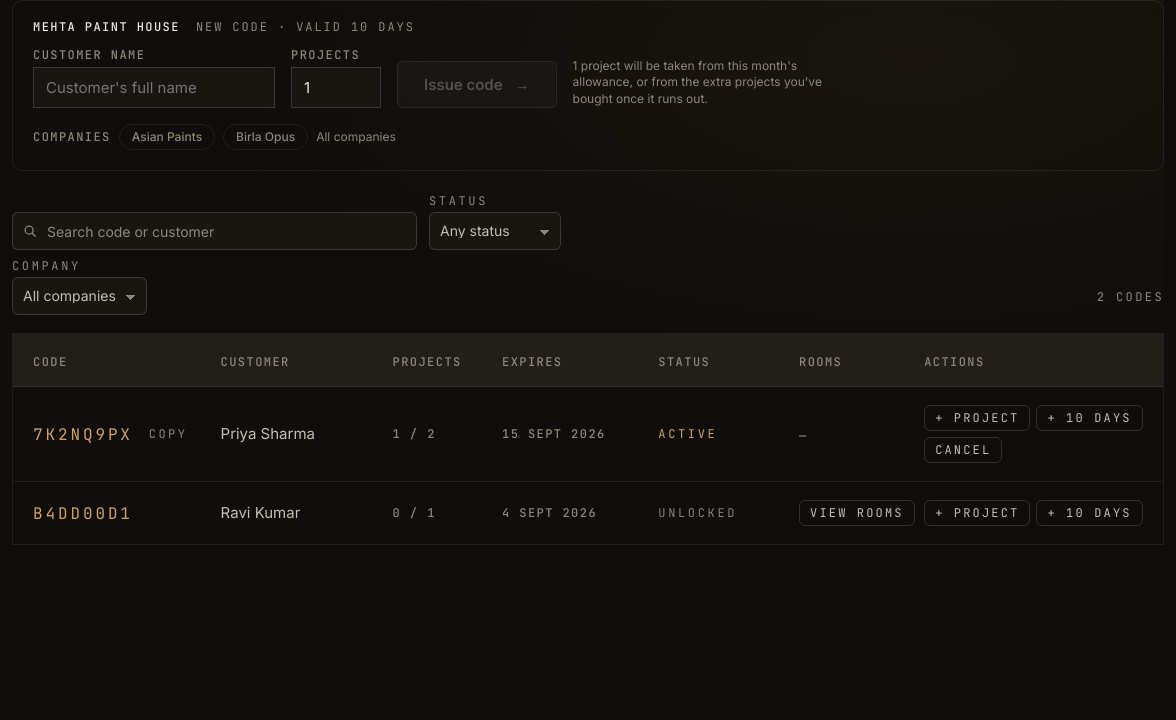
Test: AccessCodes — cancelling an unredeemed code › surfaces a refusal from the server instead of pretending the code was cancelled
Click the button "Cancel": (963, 450) [924, 437, 1002, 463]
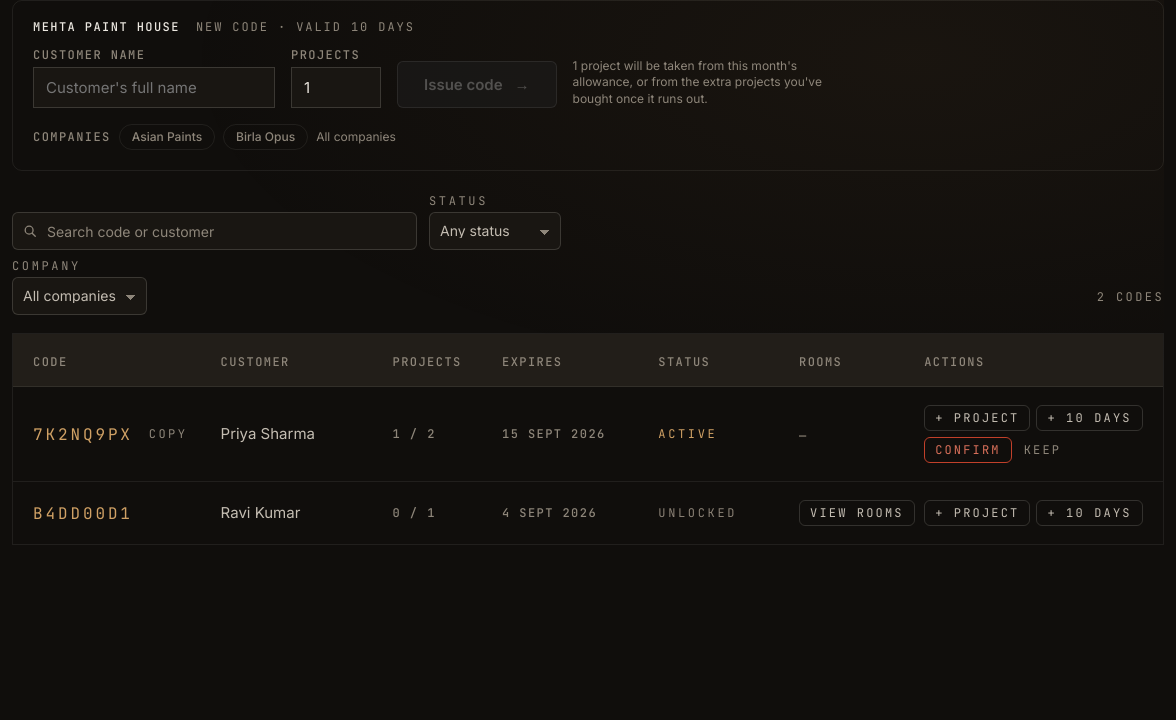
Click the button "Confirm": (968, 450) [924, 437, 1012, 463]
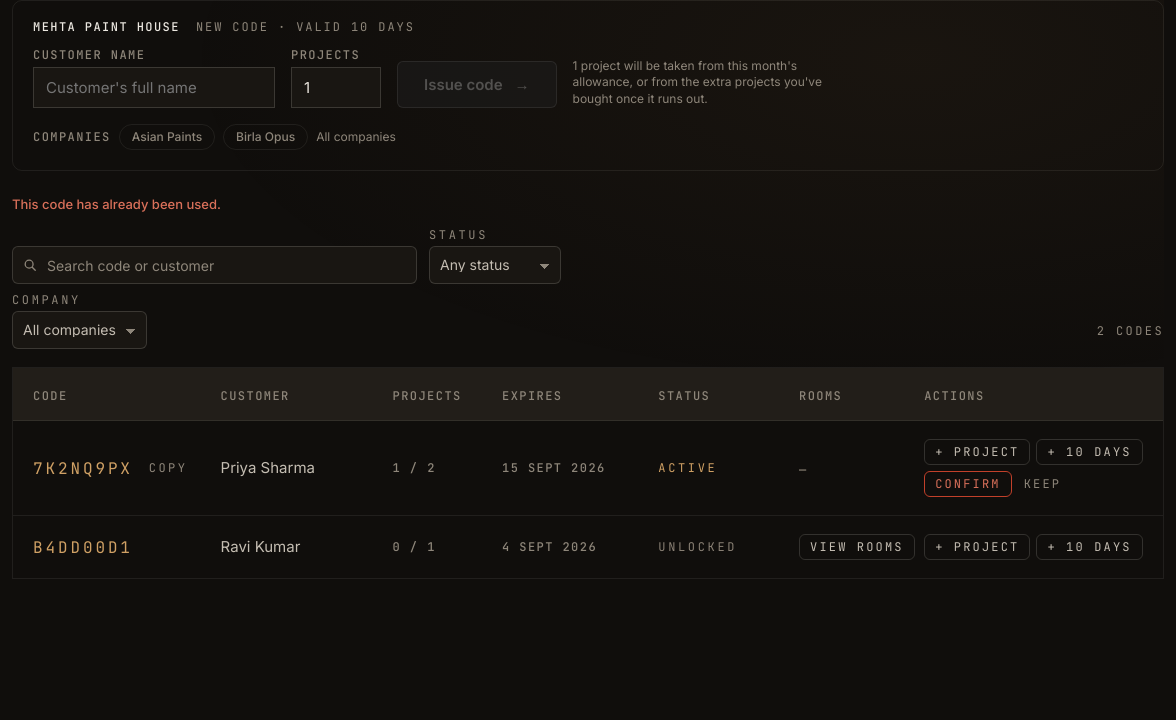
Check: the text "active" is shown, box [658, 460, 717, 476]
Check: the message shows "already been used", box [12, 196, 221, 212]
